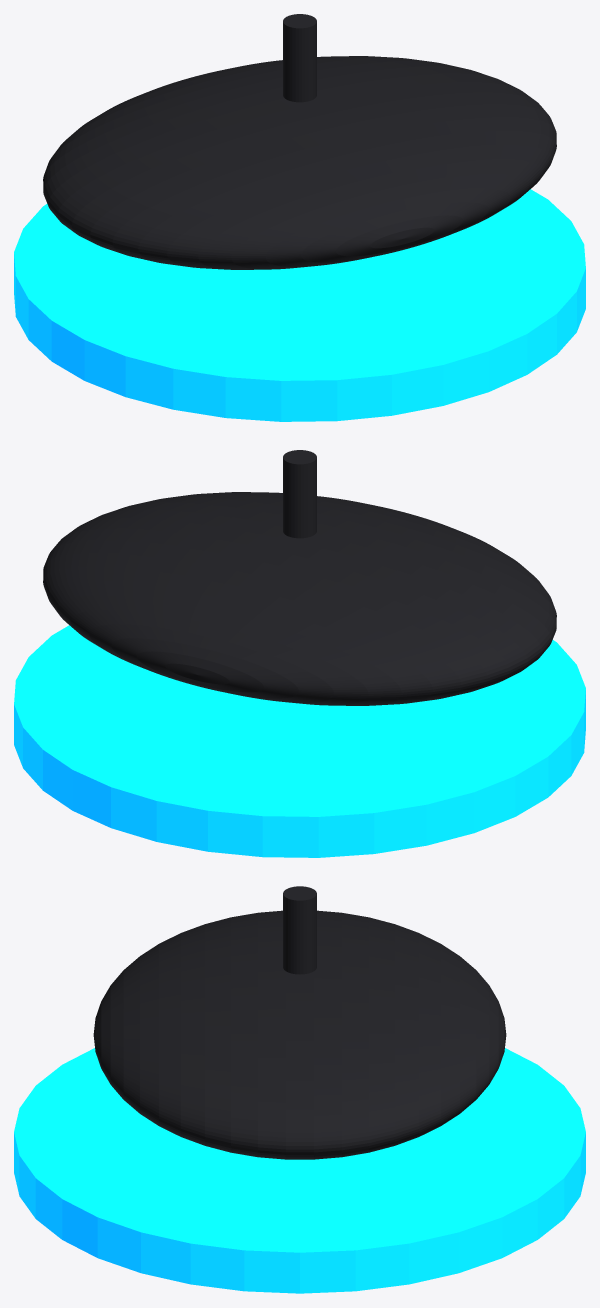
The model's file is french_beret.glb.
The picture shows the model from 3 angles, top to bottom: view 1: azimuth 30°, elevation 25°; view 2: azimuth 150°, elevation 25°; view 3: azimuth 270°, elevation 25°; orthographic projection.
Visible parts, largest first — view 1: 10_04_Popular_French_Beret_ROOT_base, 10_04_Popular_French_Beret_part_01, 10_04_Popular_French_Beret_part_02; view 2: 10_04_Popular_French_Beret_ROOT_base, 10_04_Popular_French_Beret_part_01, 10_04_Popular_French_Beret_part_02; view 3: 10_04_Popular_French_Beret_ROOT_base, 10_04_Popular_French_Beret_part_01, 10_04_Popular_French_Beret_part_02.
Part boxes in pixels (box(x1,y1,x2,y2)): 10_04_Popular_French_Beret_ROOT_base: box(14, 189, 585, 421); 10_04_Popular_French_Beret_part_01: box(43, 56, 556, 269); 10_04_Popular_French_Beret_part_02: box(283, 14, 316, 102); 10_04_Popular_French_Beret_ROOT_base: box(14, 625, 585, 857); 10_04_Popular_French_Beret_part_01: box(43, 492, 556, 705); 10_04_Popular_French_Beret_part_02: box(283, 450, 316, 538); 10_04_Popular_French_Beret_ROOT_base: box(14, 1048, 585, 1293); 10_04_Popular_French_Beret_part_01: box(93, 910, 506, 1159); 10_04_Popular_French_Beret_part_02: box(283, 886, 316, 974).
Bounding box in the file's own units: 0.76 × 0.4095 × 0.76.
